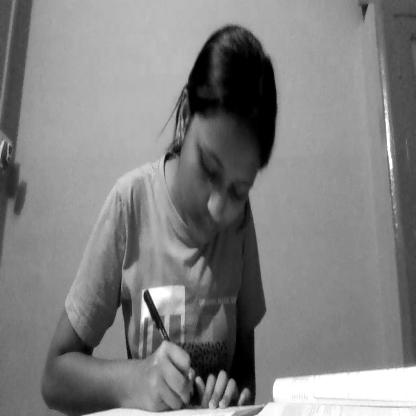Distracted: (184, 100, 271, 250)
